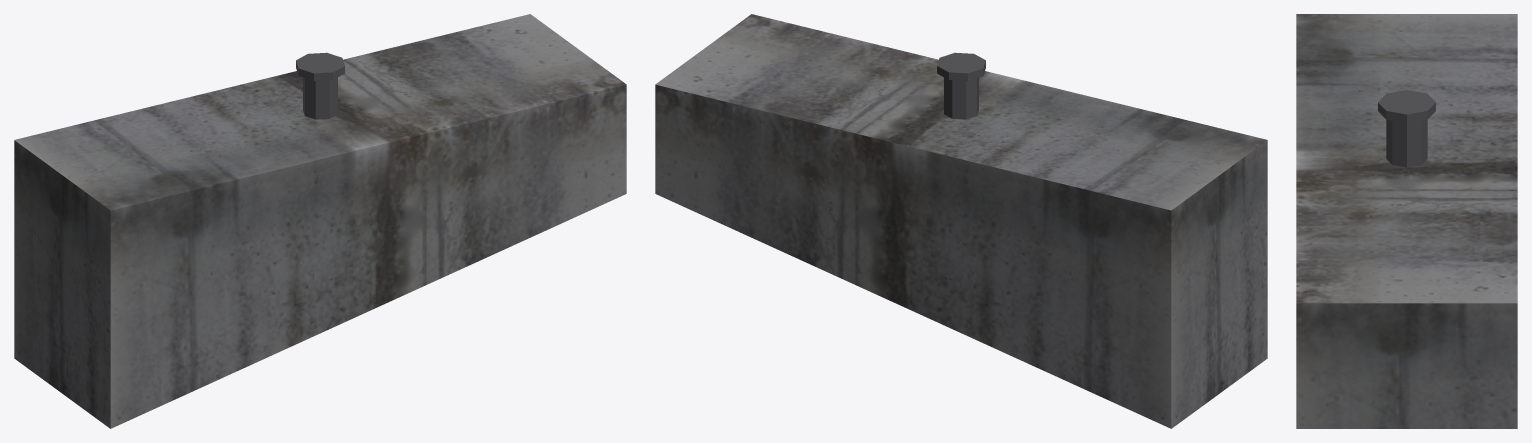
Rendered from zdymadlo_zed_svah_2.glb.
The picture shows the model from 3 angles, left to right: view 1: azimuth 30°, elevation 25°; view 2: azimuth 150°, elevation 25°; view 3: azimuth 270°, elevation 25°; orthographic projection. The views are drawn at different scales.
Parts seen in each view (by area): view 1: zdymadlo_zed_svah_2; view 2: zdymadlo_zed_svah_2; view 3: zdymadlo_zed_svah_2.
Part boxes in pixels (box(x1,y1,x2,y2)): zdymadlo_zed_svah_2: box(14, 14, 626, 428); zdymadlo_zed_svah_2: box(655, 14, 1267, 428); zdymadlo_zed_svah_2: box(1296, 14, 1517, 428).
Size of the model in its own units: 4.95 by 2.45 by 1.6.
2 materials, 1 textured.
